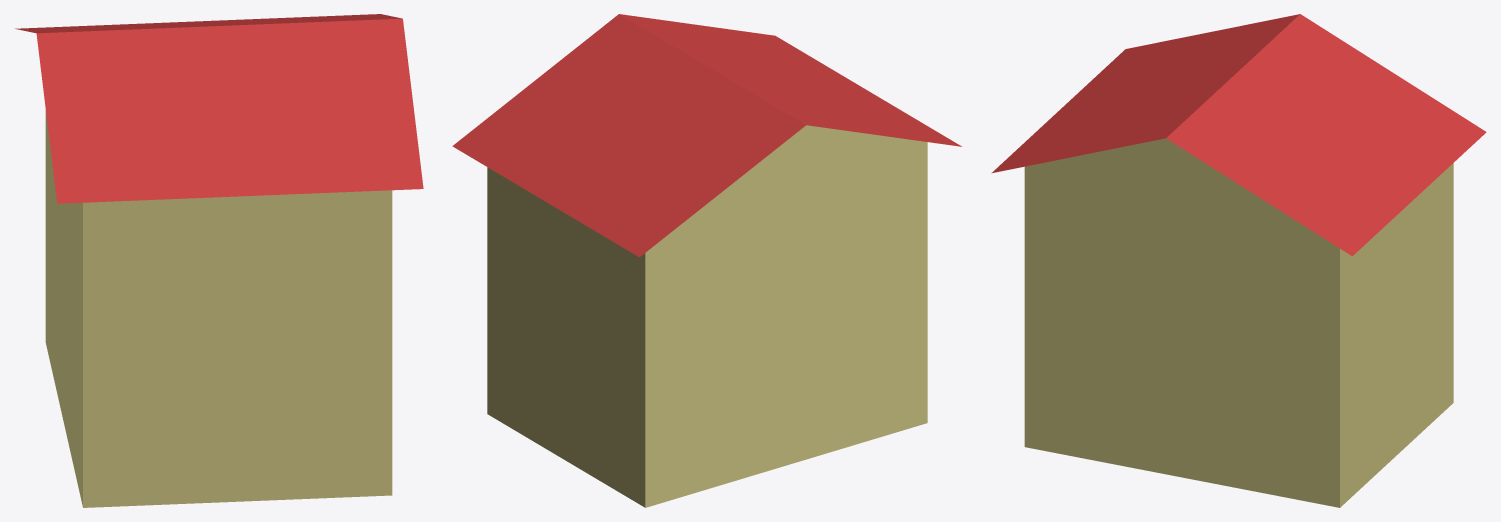
The picture shows the model from 3 angles, left to right: view 1: azimuth 30°, elevation 25°; view 2: azimuth 150°, elevation 25°; view 3: azimuth 270°, elevation 25°; orthographic projection. The views are drawn at different scales.
Visible parts, largest first — view 1: group_5, group_3, group_4; view 2: group_5, group_3, group_4; view 3: group_5, group_3, group_4.
Part boxes in pixels (x1,y1,x2,y2): group_5: (45,18,392,507); group_3: (36,15,420,203); group_4: (15,14,423,188); group_5: (487,125,927,507); group_3: (487,14,962,232); group_4: (452,14,850,257); group_5: (1024,138,1453,507); group_3: (993,14,1453,231); group_4: (992,14,1486,256).
Size of the model in its own units: 13.69 by 14.77 by 11.44.
